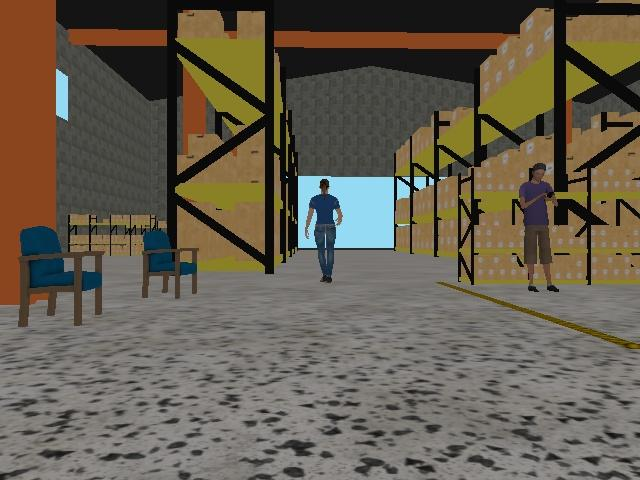chair: (17, 224, 106, 328), (140, 229, 201, 300)
person: (518, 162, 561, 294), (304, 177, 344, 284)
